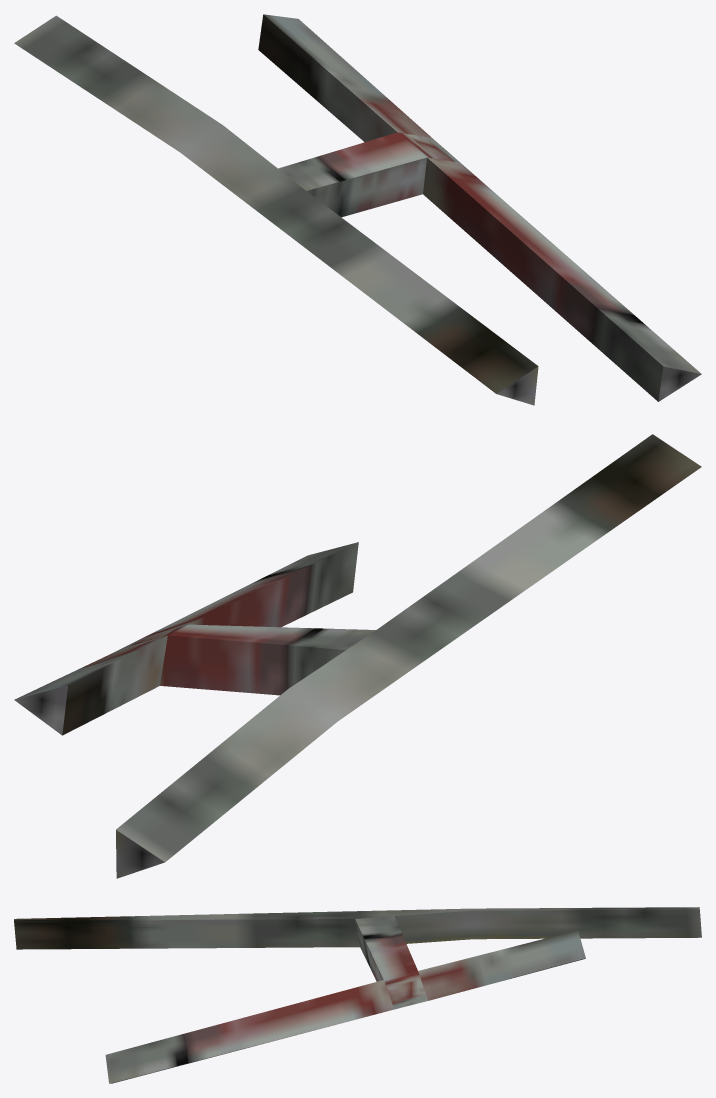
File: xwing_debris_g_l1.fbx
3 views of the same model, one above another, from view 1: azimuth 30°, elevation 25°; view 2: azimuth 150°, elevation 25°; view 3: azimuth 270°, elevation 25° (orthographic). The views are drawn at different scales.
Visible parts, largest first — view 1: mesh_node; view 2: mesh_node; view 3: mesh_node.
Part boxes in pixels (bbox=[...]): mesh_node: bbox=[14, 14, 701, 405]; mesh_node: bbox=[14, 434, 701, 878]; mesh_node: bbox=[14, 907, 701, 1083].
Size of the model in its own units: 0.4922 by 0.2871 by 1.42.
Materials: 1 (1 with a texture image).
